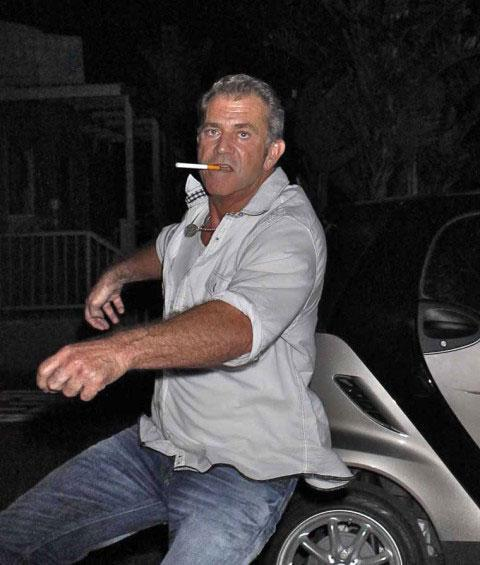Drunk: (197, 95, 268, 197)
